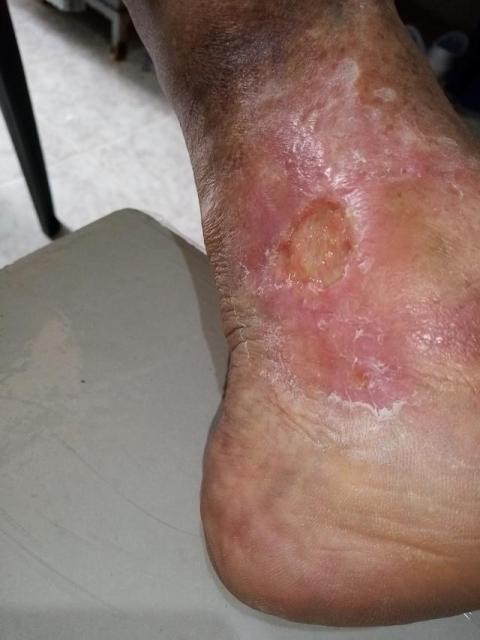wound: (264, 190, 366, 293)
